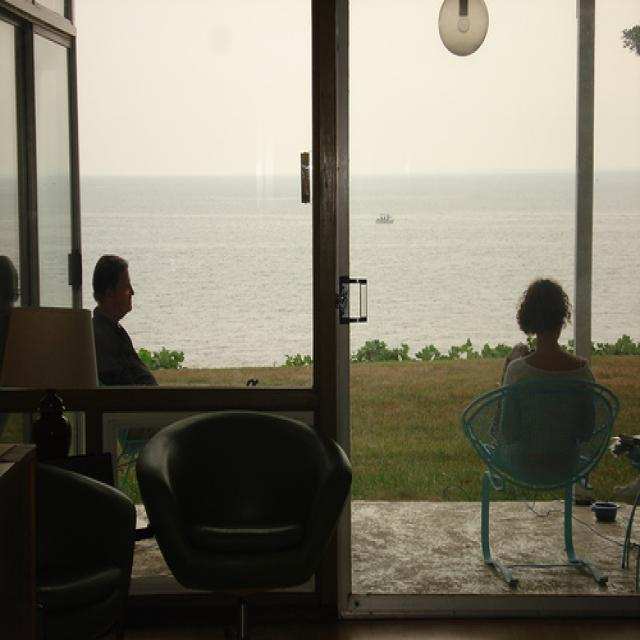chair: (134, 407, 356, 593), (458, 378, 622, 590), (36, 462, 137, 629)
person: (491, 277, 599, 484), (91, 254, 161, 389)
